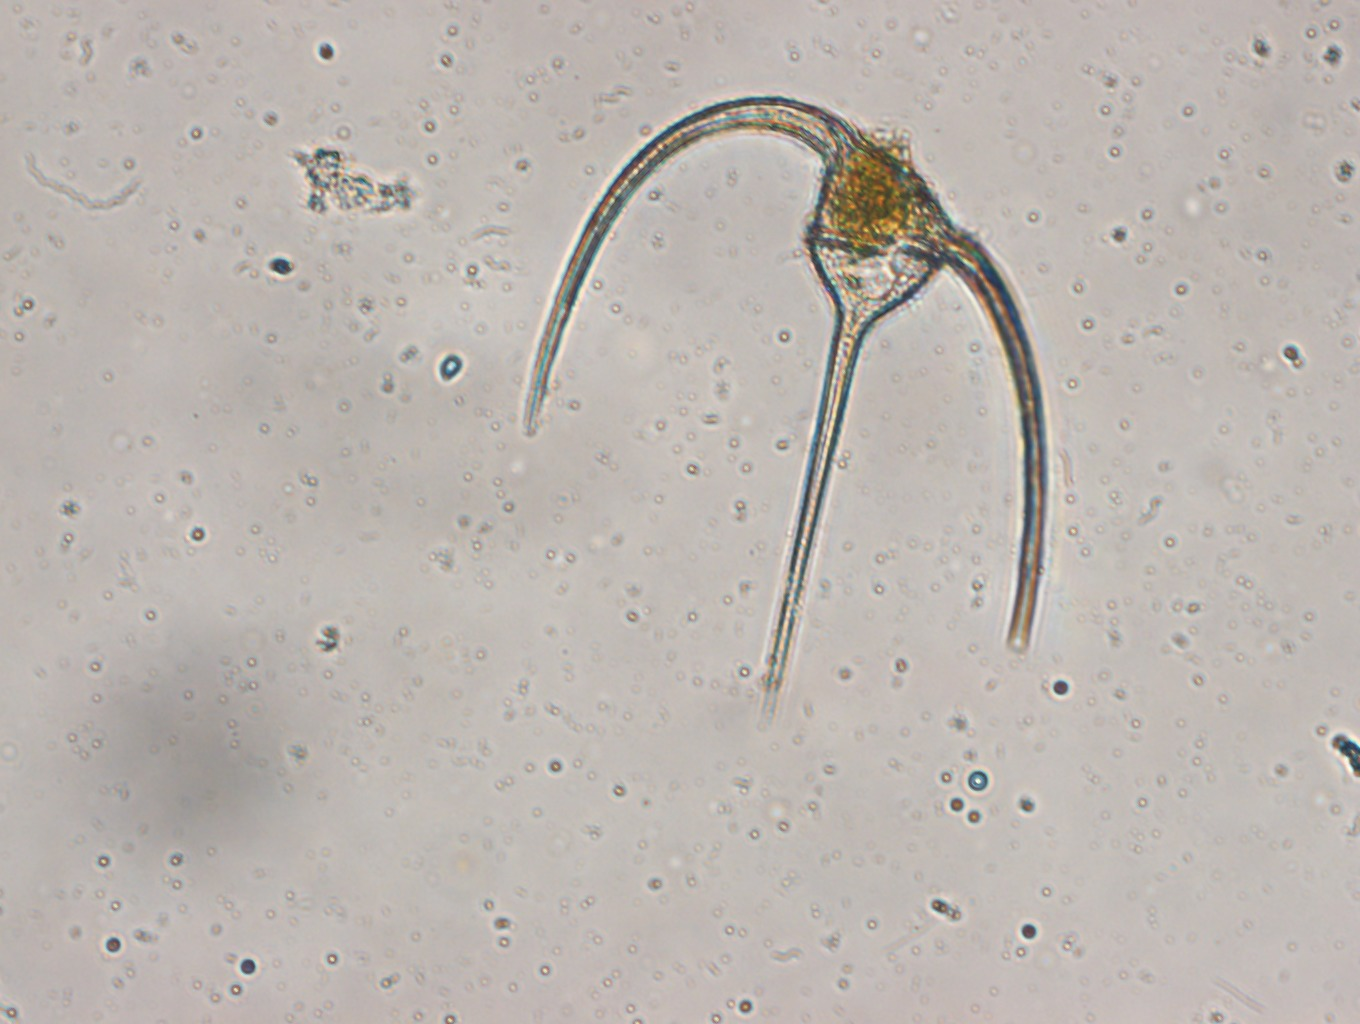ceratium trichoceros: (503, 89, 1057, 720)
